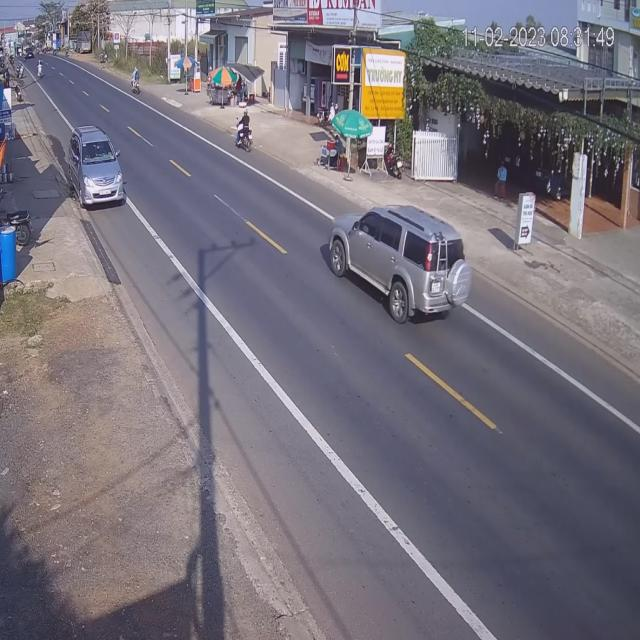car: (326, 203, 466, 324), (68, 128, 126, 210)
motorbike: (235, 110, 253, 154), (132, 68, 142, 98)
